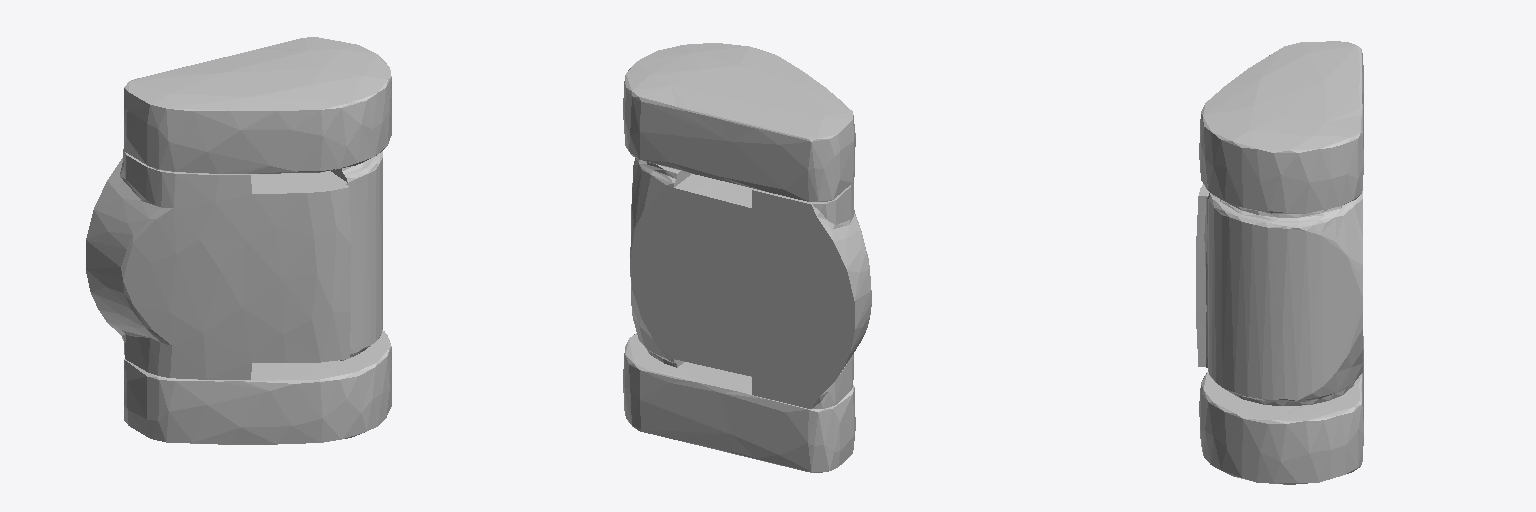
File: head_pan.obj
3 views of the same model, side by side, from view 1: azimuth 30°, elevation 25°; view 2: azimuth 150°, elevation 25°; view 3: azimuth 270°, elevation 25° (orthographic).
Parts seen in each view (by area): view 1: head_pan_M_mod_head_pan_M_modShape; view 2: head_pan_M_mod_head_pan_M_modShape; view 3: head_pan_M_mod_head_pan_M_modShape.
Boxes of the visible parts, x1=… form: head_pan_M_mod_head_pan_M_modShape: x1=86, y1=37, x2=391, y2=444; head_pan_M_mod_head_pan_M_modShape: x1=623, y1=43, x2=871, y2=472; head_pan_M_mod_head_pan_M_modShape: x1=1196, y1=41, x2=1363, y2=484.
Size of the model in its own units: 0.2537 by 0.3212 by 0.1436.